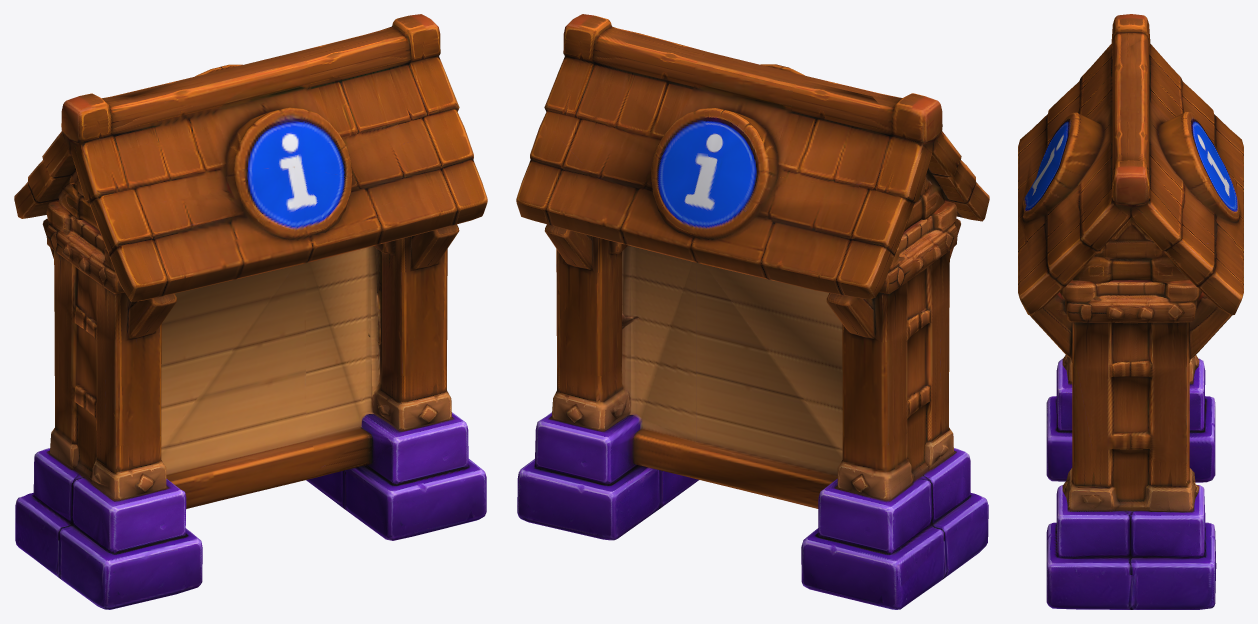
The model's file is information_panel.glb.
The picture shows the model from 3 angles, left to right: view 1: azimuth 30°, elevation 25°; view 2: azimuth 150°, elevation 25°; view 3: azimuth 270°, elevation 25°; orthographic projection. The views are drawn at different scales.
Size of the model in its own units: 1.62 by 1.91 by 0.8963.
1 material, 1 textured.
